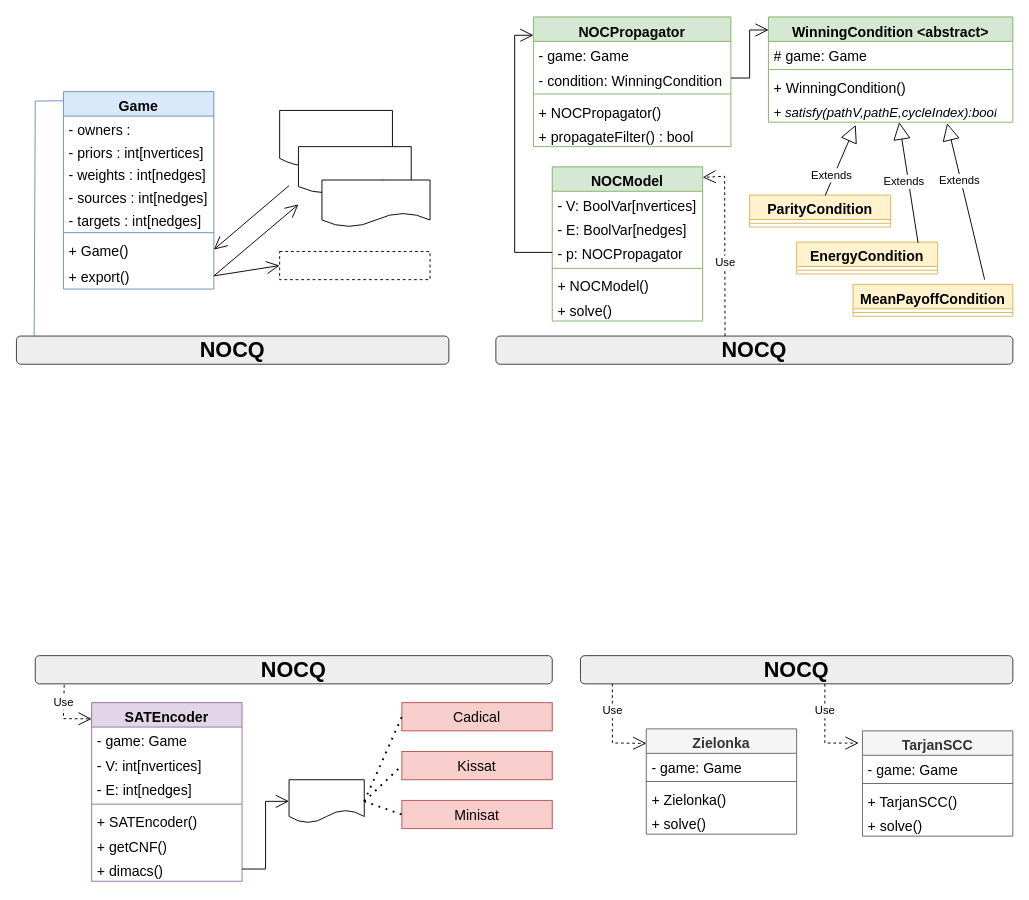
Some shapes in this 1029 by 900 pixel diagram are drawn without their labels. The shapes that lost their labels are listed below. From the top down, each one's centre as x and y in pixels, then its label:
At (335,138): "GM".
At (354,170): "GMW".
At (375,203): "DZN".
At (354,265): "New Games".
At (326,801): "CNF".
